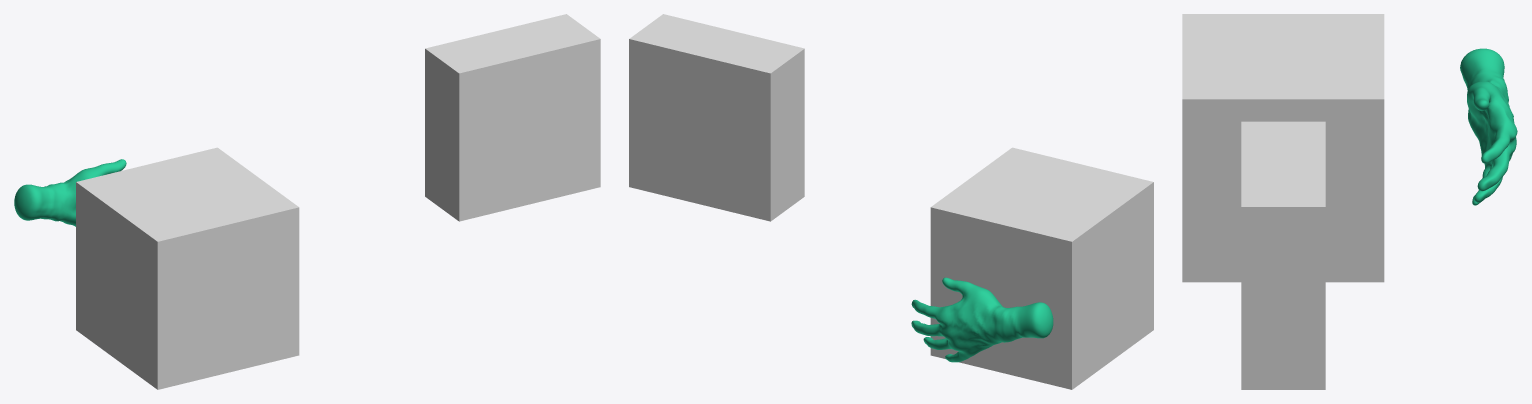
Rendered from Kontrolery.glb.
3 renders of one model, left to right at view 1: azimuth 30°, elevation 25°; view 2: azimuth 150°, elevation 25°; view 3: azimuth 270°, elevation 25°, orthographic. The views are drawn at different scales.
Visible parts, largest first — view 1: Cube, Cube.003, Skin_Hand; view 2: Cube, Cube.003, Skin_Hand; view 3: Cube, Cube.003, Skin_Hand.
Part boxes in pixels (<box>): Cube: <box>76,147,299,389</box>; Cube.003: <box>425,14,600,221</box>; Skin_Hand: <box>14,159,126,226</box>; Cube: <box>930,147,1153,389</box>; Cube.003: <box>629,14,804,221</box>; Skin_Hand: <box>911,277,1053,362</box>; Cube: <box>1182,14,1384,282</box>; Cube.003: <box>1241,121,1325,389</box>; Skin_Hand: <box>1460,48,1517,205</box>.
Bounding box in the file's own units: 6.84 × 2.97 × 3.32.
